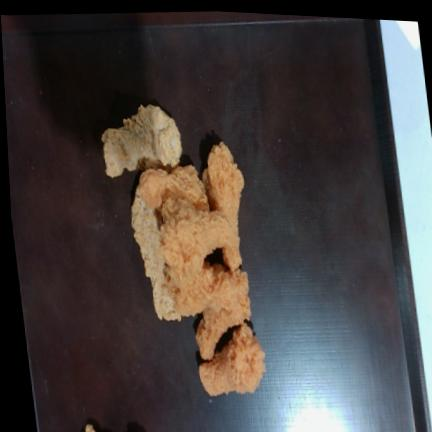chicken: (131, 185, 181, 319), (101, 104, 181, 176), (162, 209, 236, 283), (202, 141, 244, 268), (199, 323, 265, 395), (169, 261, 249, 315), (196, 293, 250, 359), (137, 165, 209, 211)
